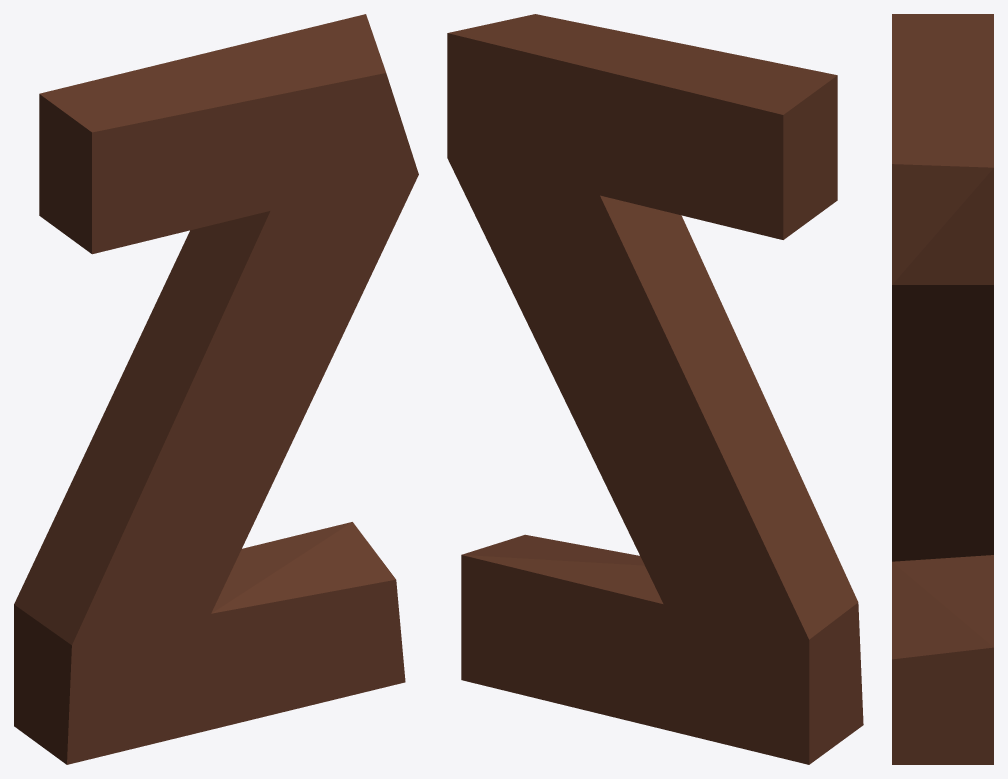
Rendered from SM_Sign_3dText_Letter_Z.obj.
3 renders of one model, left to right at view 1: azimuth 30°, elevation 25°; view 2: azimuth 150°, elevation 25°; view 3: azimuth 270°, elevation 25°, orthographic. The views are drawn at different scales.
Visible parts, largest first — view 1: SM_Sign_3dText_Letter_Z_0; view 2: SM_Sign_3dText_Letter_Z_0; view 3: SM_Sign_3dText_Letter_Z_0.
Part boxes in pixels (box(x1,y1,x2,y2)): SM_Sign_3dText_Letter_Z_0: box(14, 14, 418, 764); SM_Sign_3dText_Letter_Z_0: box(447, 14, 863, 764); SM_Sign_3dText_Letter_Z_0: box(892, 14, 993, 764).
Bounding box in the file's own units: 0.4199 × 0.7139 × 0.1093.
Materials: 1 (1 with a texture image).
